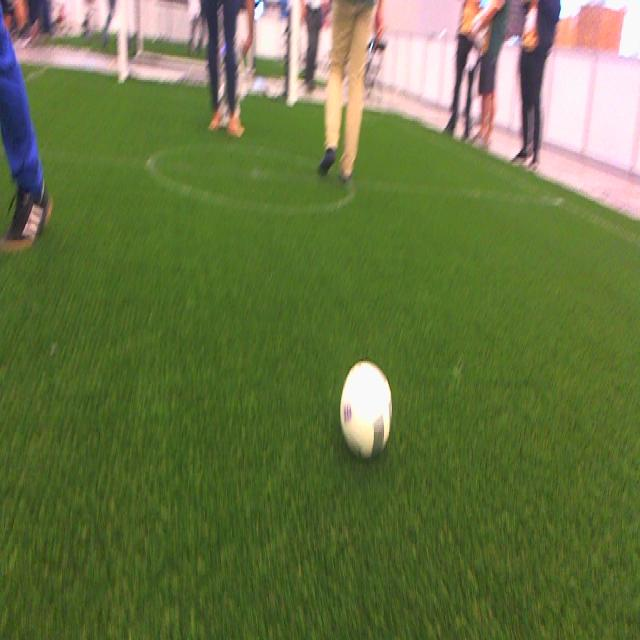ball: (338, 362, 392, 458)
goalpost: (288, 2, 302, 106), (115, 0, 127, 80)
